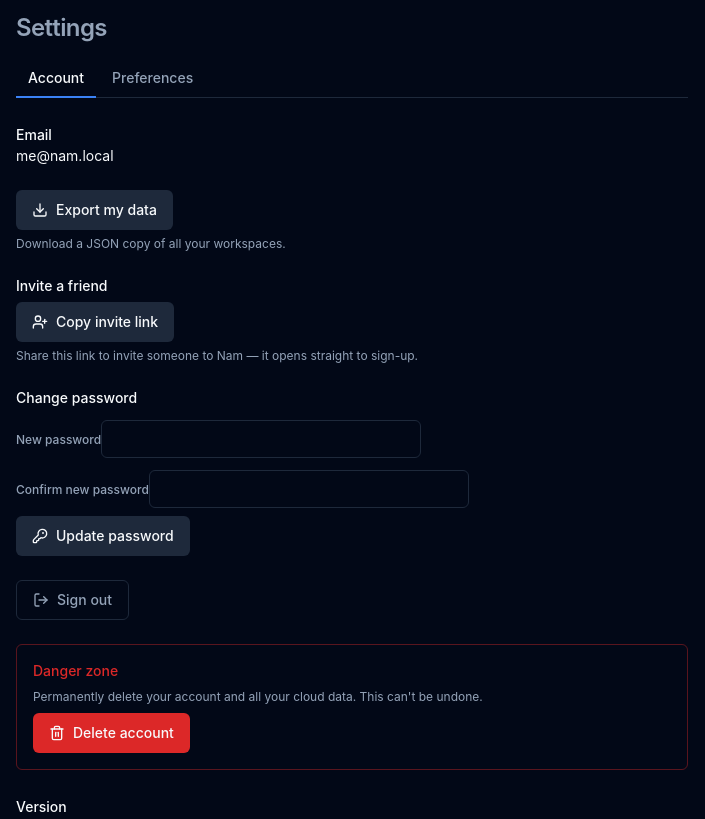
Scenario: AccountPage › copies an invite link
The image size is (705, 819).
Expected: the text "me@nam.local" is shown, [16, 147, 114, 164]
What coordinates should you click on to do the following:
click the button "Copy invite link"
I would click on:
 (95, 322)
Its box is [16, 302, 174, 342].
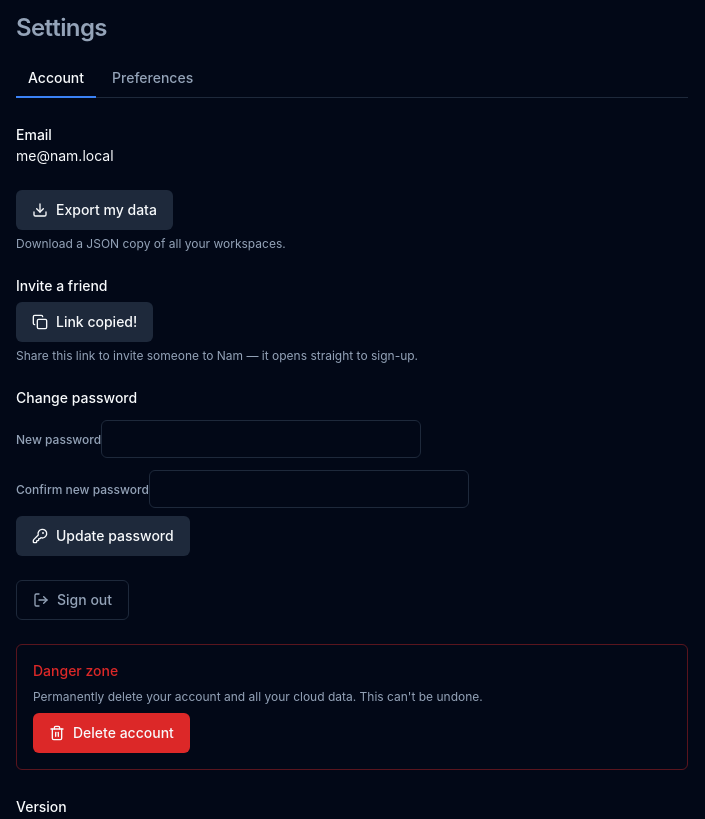
Expected: the button "Link copied!" is shown, [16, 302, 153, 342]
